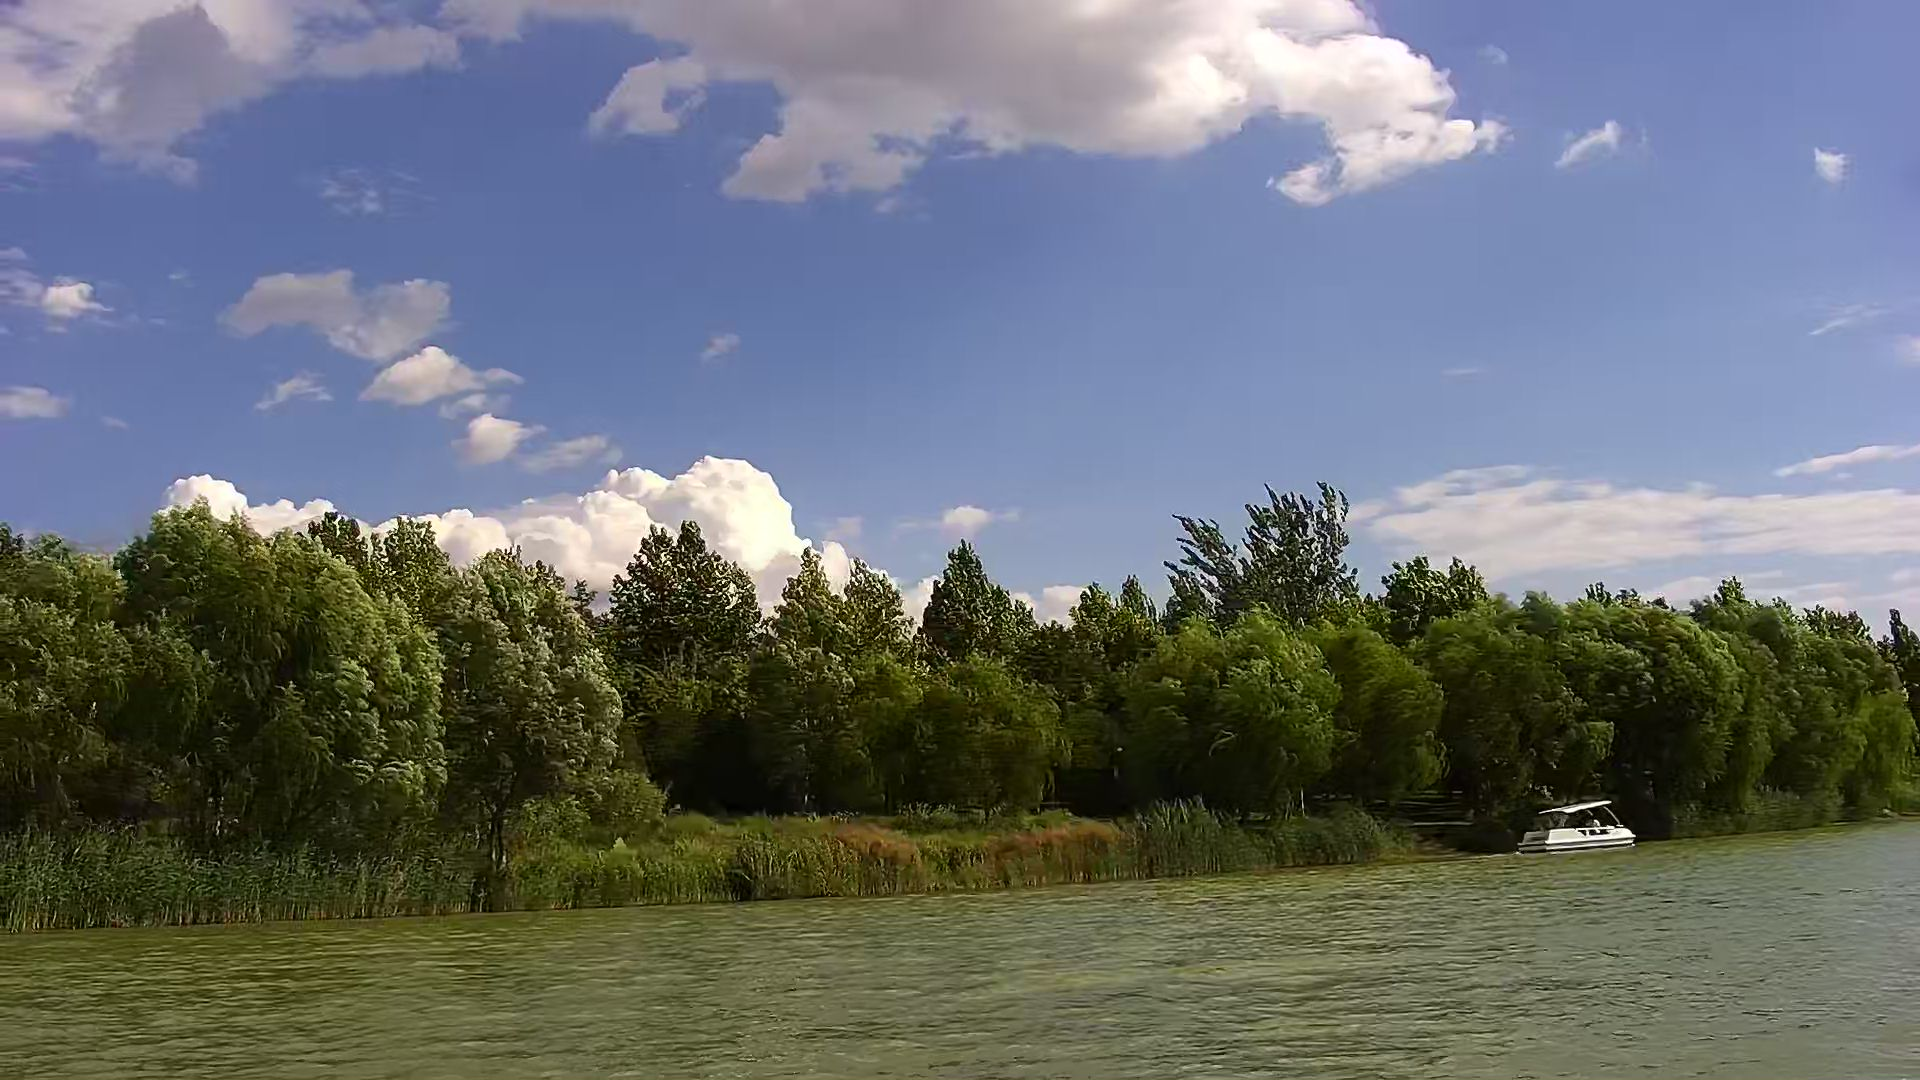boat: (1513, 798, 1635, 855)
